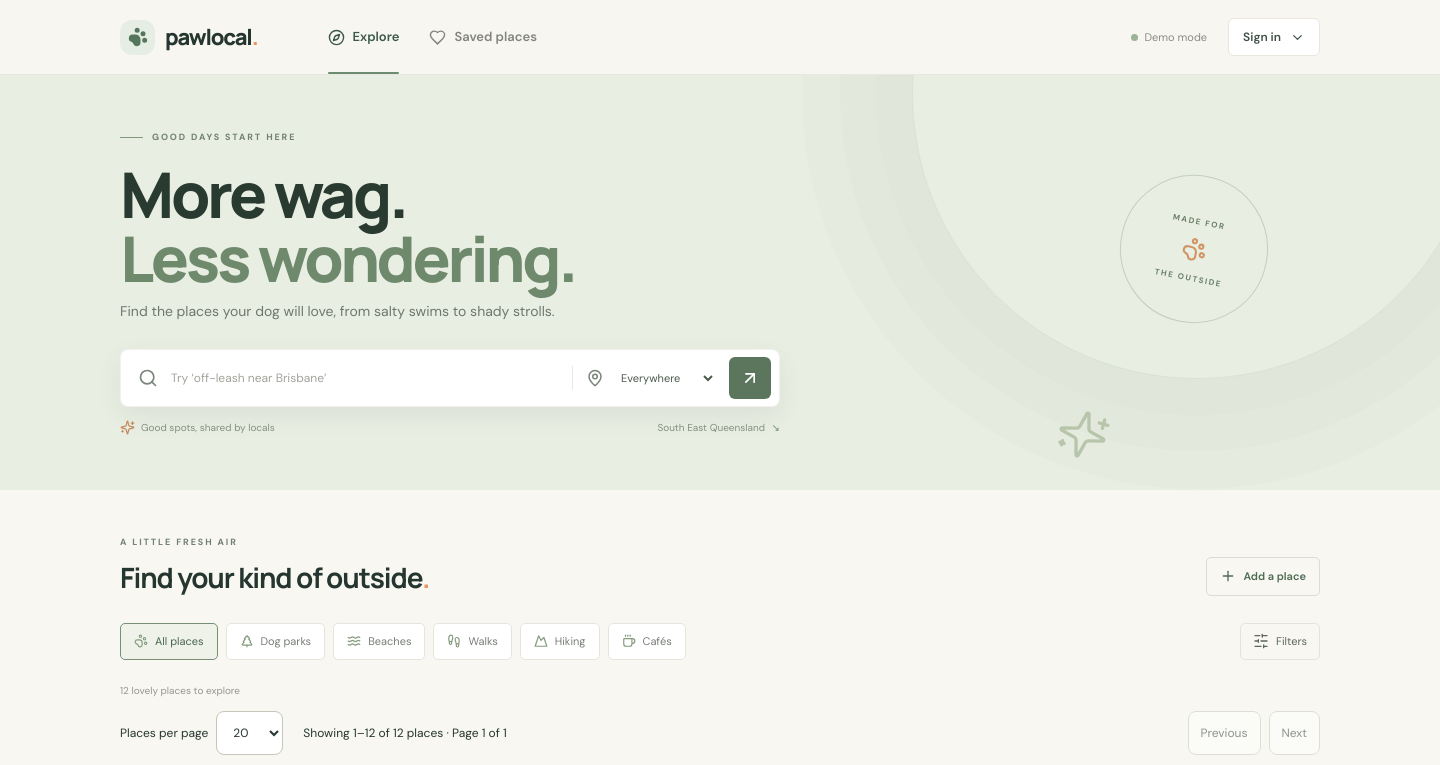
Test case: PawLocal journeys › filters by category and shows a clear empty state
Step 1. Click the button "Cafés" → {"x": 647, "y": 641}, box [608, 622, 686, 660]
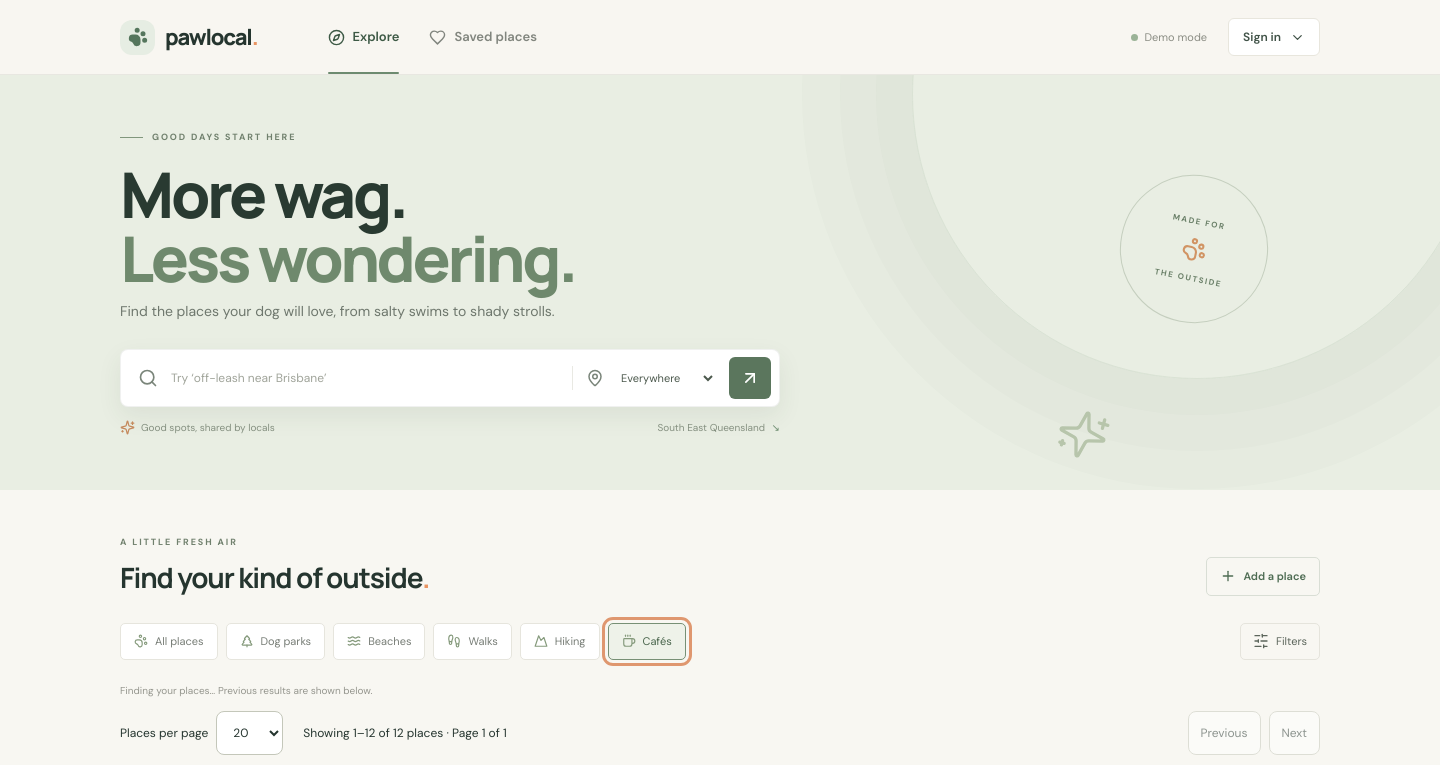
Step 2. Click the button "Dog parks" → {"x": 275, "y": 641}, box [226, 622, 325, 660]
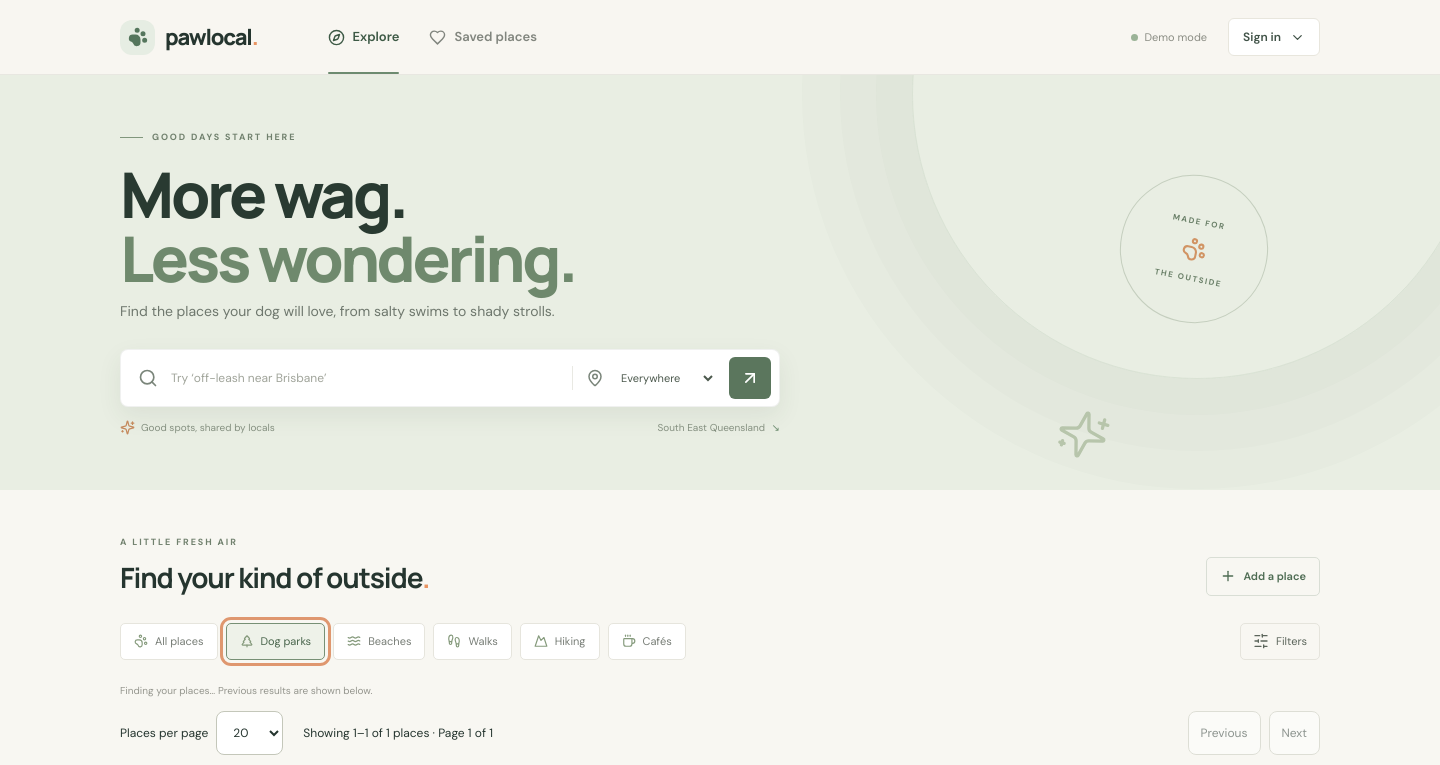
Step 3. Type "nothing matches" into the field named "Search places or areas" → {"x": 365, "y": 378}, box [171, 369, 559, 387]
(page scrolled)
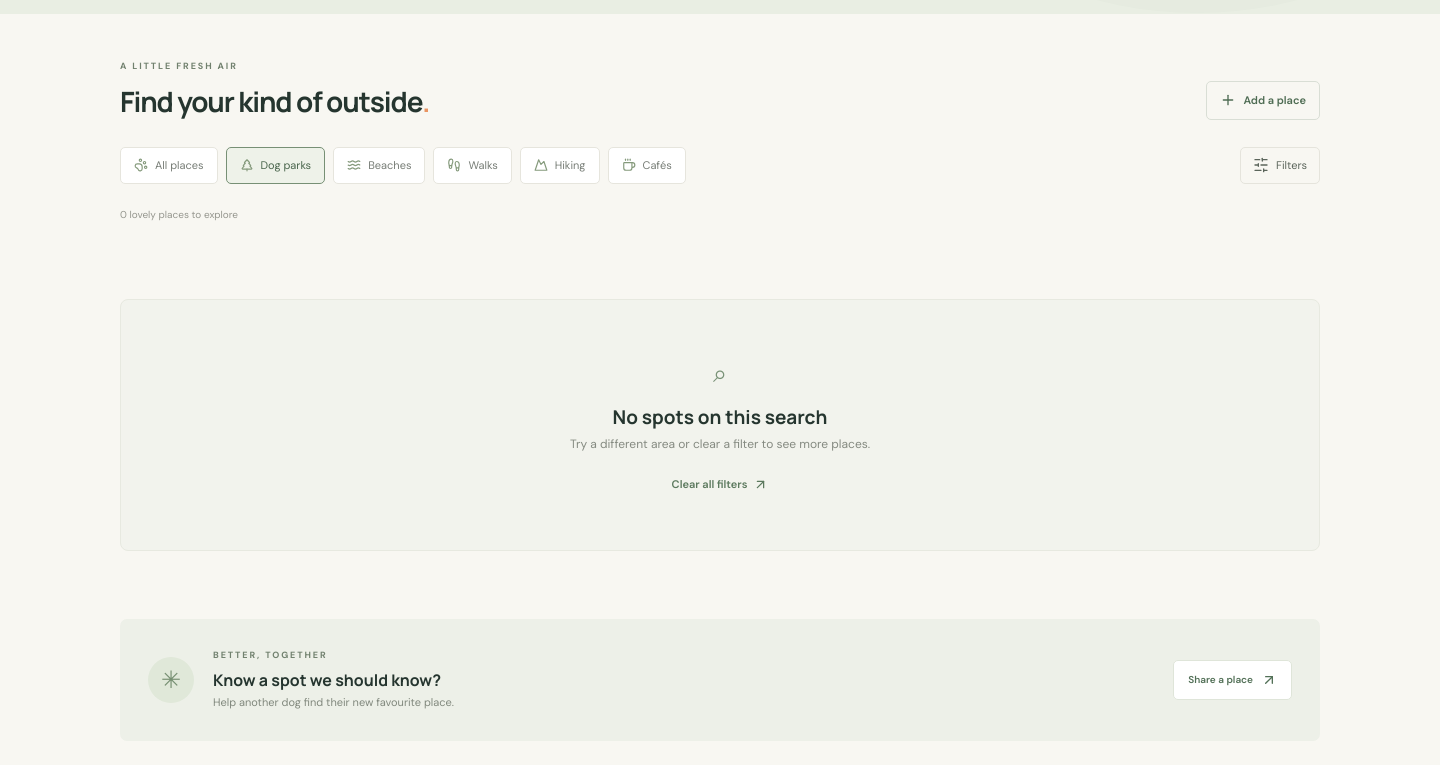
expect the heading "No spots on this search" is shown: met, box [612, 404, 827, 430]
